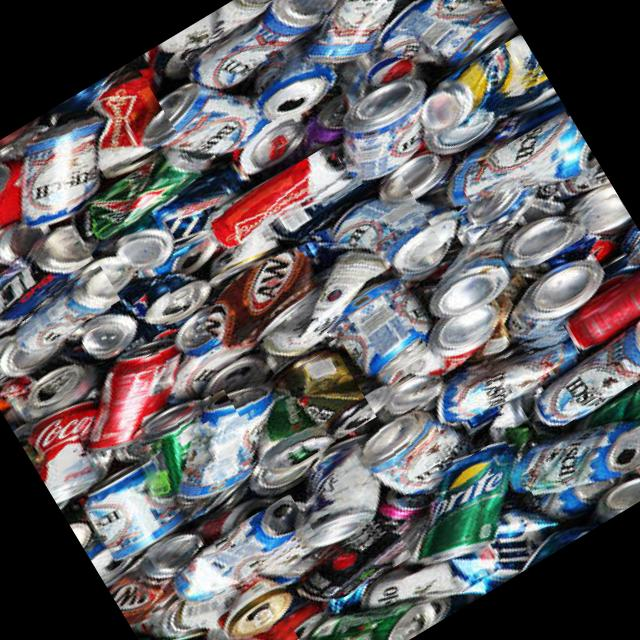Cans: (382, 436, 542, 572), (234, 340, 376, 474), (168, 492, 320, 614), (426, 314, 580, 431), (208, 142, 356, 256), (286, 500, 431, 614), (127, 387, 261, 508), (452, 108, 591, 219), (56, 60, 178, 180), (245, 256, 382, 361), (279, 0, 461, 79), (181, 0, 331, 94), (0, 110, 117, 229), (0, 254, 120, 361), (531, 315, 640, 431), (521, 414, 640, 518), (412, 246, 523, 357), (378, 0, 517, 87), (88, 147, 210, 246), (428, 33, 547, 132), (0, 224, 94, 333), (347, 168, 442, 274), (514, 182, 628, 268), (83, 272, 186, 361), (356, 400, 454, 491), (242, 34, 340, 118), (86, 346, 182, 430), (344, 299, 429, 384), (224, 110, 302, 170), (16, 362, 90, 422)
